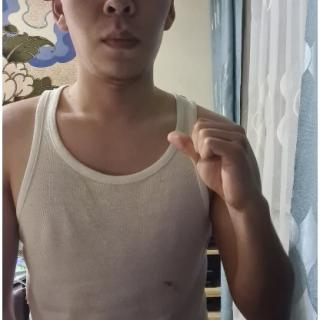WAW: (166, 115, 272, 211)
